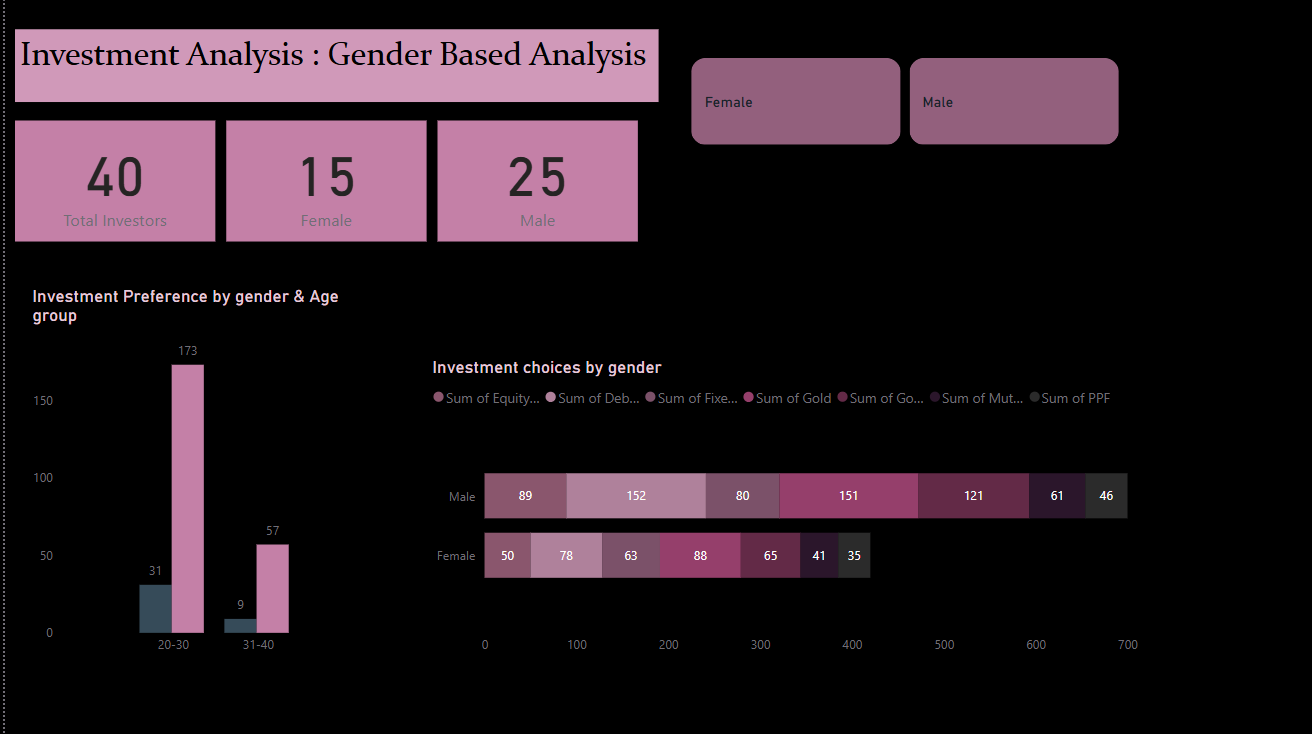

Layout of this report page (visuals, bound fields, positions):
{"tool":"powerbi","page":{"name":"Gender Based Analysis","canvas":[1280,720],"ordinal":1},"visuals":[{"type":"card","fields":{"Values":["CountNonNull(POWER BI COGNIFZY.Age group)"]},"box":[9.6,119.4,196.2,118],"z":0},{"type":"card","fields":{"Values":["POWER BI COGNIFZY.Male"]},"box":[422.6,119.4,196.2,118],"z":1000},{"type":"barChart","title":"Investment choices by gender","fields":{"Y":["Sum(POWER BI COGNIFZY.Equity_Market)","Sum(POWER BI COGNIFZY.Debentures)","Sum(POWER BI COGNIFZY.Fixed_Deposits)","Sum(POWER BI COGNIFZY.Gold)","Sum(POWER BI COGNIFZY.Government_Bonds)","Sum(POWER BI COGNIFZY.Mutual_Funds)","Sum(POWER BI COGNIFZY.PPF)"],"Category":["POWER BI COGNIFZY.gender"]},"box":[413,351,700,300],"z":2000},{"type":"clusteredColumnChart","title":"Investment Preference by gender & Age group","fields":{"Y":["CountNonNull(POWER BI COGNIFZY.gender)","Sum(POWER BI COGNIFZY.Debentures)"],"Category":["POWER BI COGNIFZY.Age group"]},"box":[22,281,339,370],"z":3000},{"type":"card","fields":{"Values":["POWER BI COGNIFZY.Female"]},"box":[216.8,119.4,196.2,118],"z":4000},{"type":"textbox","box":[9.6,30.2,629.8,71.4],"z":5000},{"type":"advancedSlicerVisual","fields":{"Values":["POWER BI COGNIFZY.gender"]},"box":[666.4,53.8,429.2,95.4],"z":6000}]}

Visuals, with their boxes in screenshot pixels (x1, y1, x2, y2), scaled from the page's 1280x720 canvas onto the 1312x734 screenshot:
card - CountNonNull(POWER BI COGNIFZY.Age group): bbox(10, 122, 211, 242)
card - POWER BI COGNIFZY.Male: bbox(433, 122, 634, 242)
"Investment choices by gender" barChart: bbox(423, 358, 1141, 664)
"Investment Preference by gender & Age group" clusteredColumnChart: bbox(23, 286, 370, 664)
card - POWER BI COGNIFZY.Female: bbox(222, 122, 423, 242)
textbox: bbox(10, 31, 655, 104)
advancedSlicerVisual - POWER BI COGNIFZY.gender: bbox(683, 55, 1123, 152)
